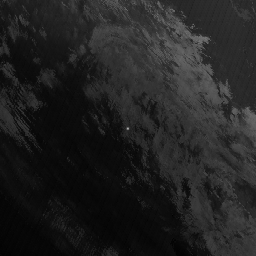Target: (125, 127, 130, 131)
